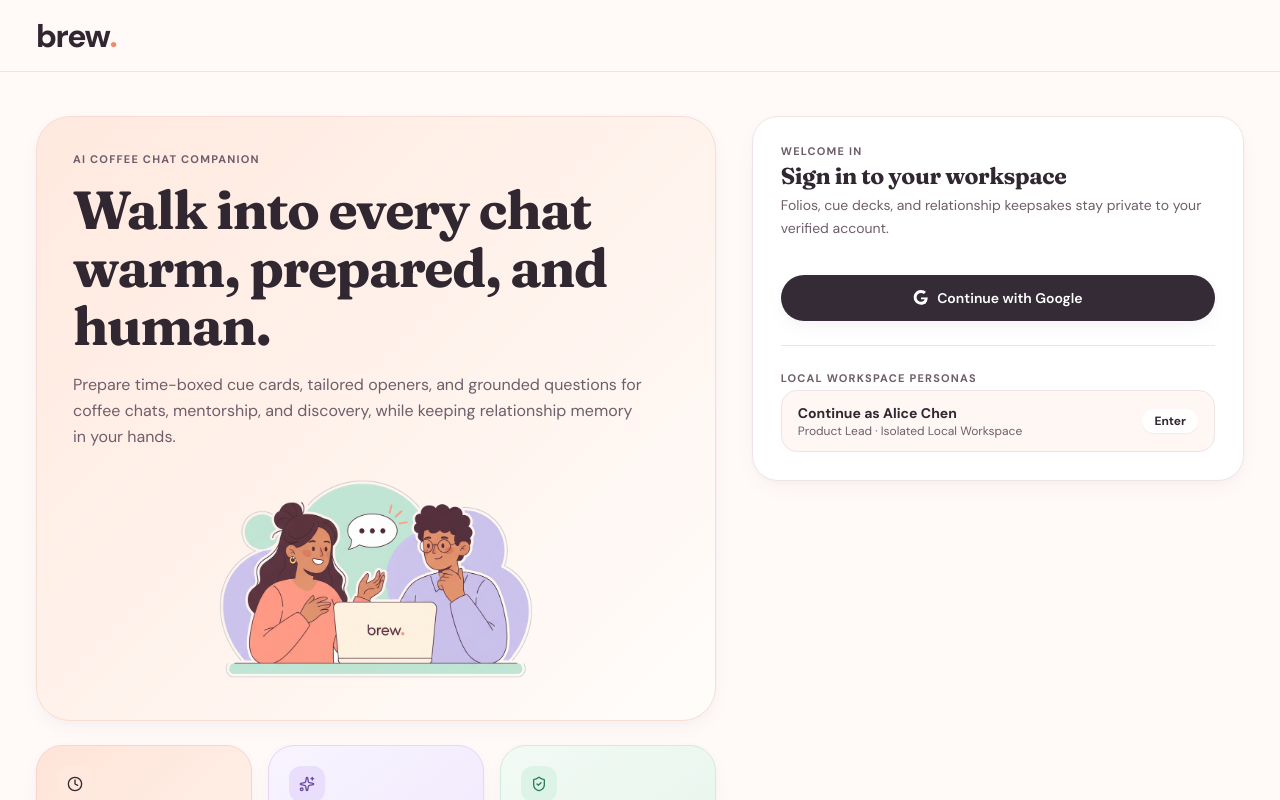
Test case: Brew v2 Design System, 3-Space Shell, Illustrations, Accessibility, and Focused Rituals › opens interactive Google OAuth 2.0 popup on click and surfaces origin_mismatch guidance when misconfigured
The image size is (1280, 800).
Click the button "Continue with Google" at (998, 298), box left=781, top=275, right=1215, bottom=321
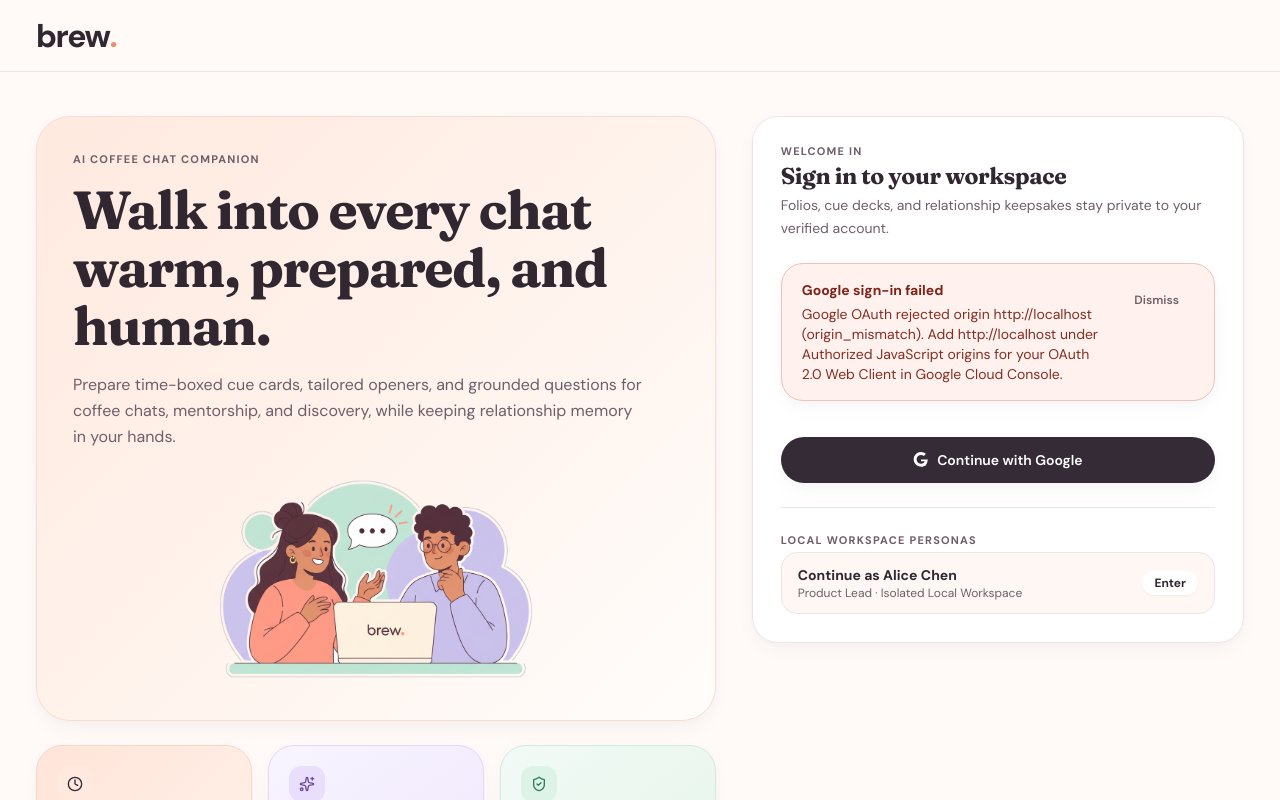
Now the text "Authorized JavaScript origins" is shown, box left=802, top=305, right=1098, bottom=383
Click the button "Continue with Google" at (998, 460), box left=781, top=437, right=1215, bottom=483
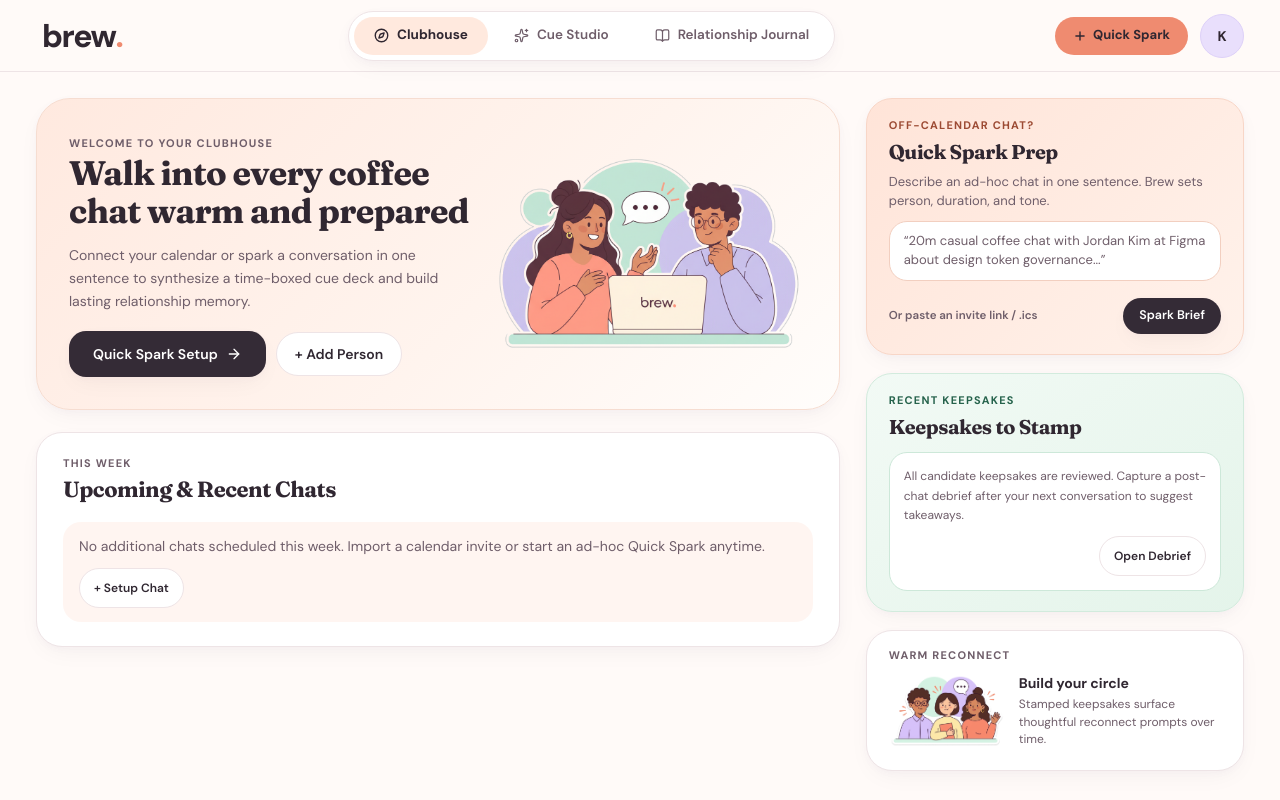
Now the heading "Walk into every coffee chat warm and prepared" is shown, box left=69, top=154, right=471, bottom=230
